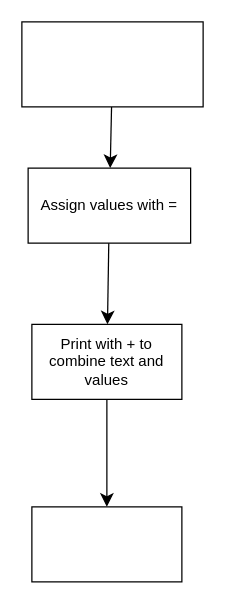
Image size: 225x604. Some labels were removed from this diagram. The shapes that lost their labels are listed below. From the top down, each one's centre as x and y in pixels, then its label:
At [112,64]: "Start: Declare int patientAge, double heartRate, String name, boolean isStable".
At [106,544]: "End: See output in console".
